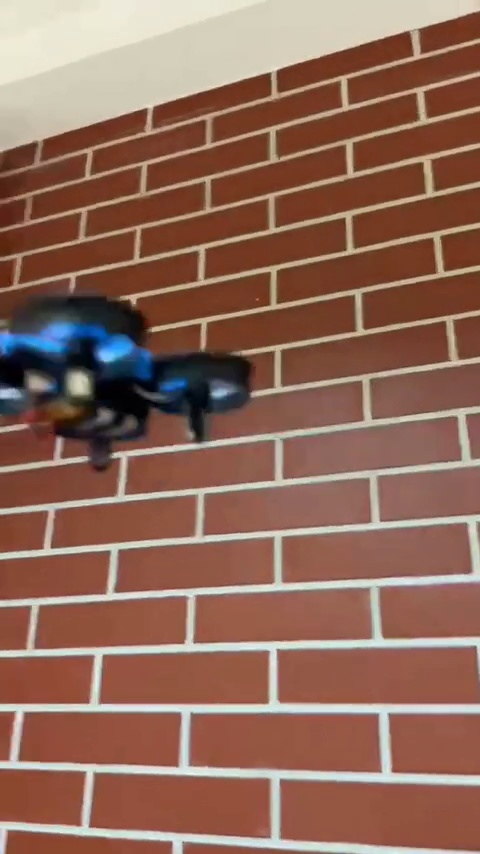drone: (0, 289, 253, 473)
